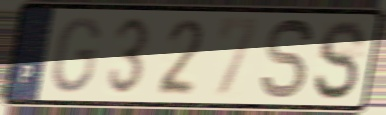2: (156, 16, 206, 98)
3: (105, 14, 153, 98)
7: (214, 14, 263, 102)
G: (49, 15, 102, 96)
S: (310, 17, 369, 104), (259, 15, 316, 103)
